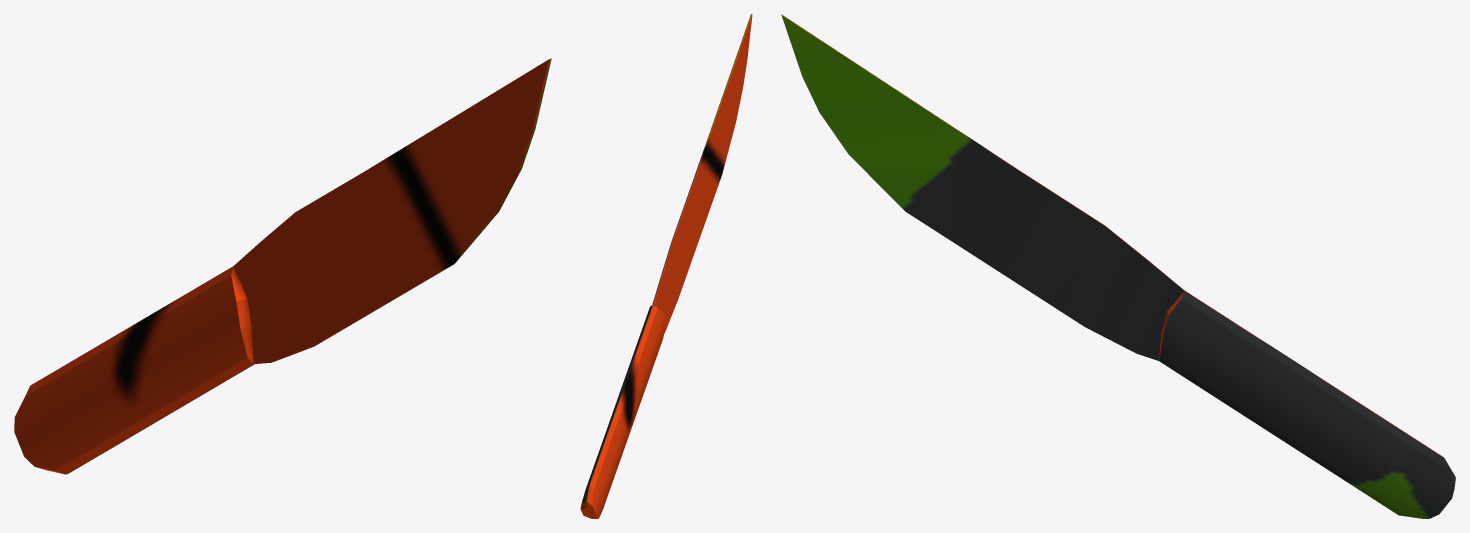
File: Cuchillo.fbx
3 views of the same model, side by side, from view 1: azimuth 30°, elevation 25°; view 2: azimuth 150°, elevation 25°; view 3: azimuth 270°, elevation 25° (orthographic). The views are drawn at different scales.
Visible parts, largest first — view 1: Cuchillo; view 2: Cuchillo; view 3: Cuchillo.
Part boxes in pixels (x1,y1,x2,y2): Cuchillo: [14, 58, 551, 474]; Cuchillo: [580, 14, 752, 518]; Cuchillo: [781, 14, 1455, 518].
Bounding box in the file's own units: 0.6403 × 3.73 × 4.23.
